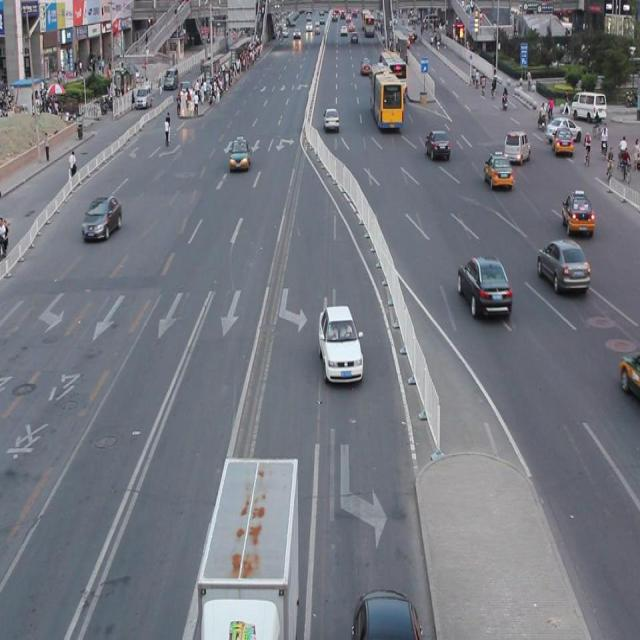bus: (197, 451, 300, 640)
car: (352, 584, 421, 640), (317, 303, 363, 384), (456, 255, 511, 318), (536, 238, 588, 292), (82, 193, 122, 242), (560, 191, 593, 238), (483, 153, 513, 188)
